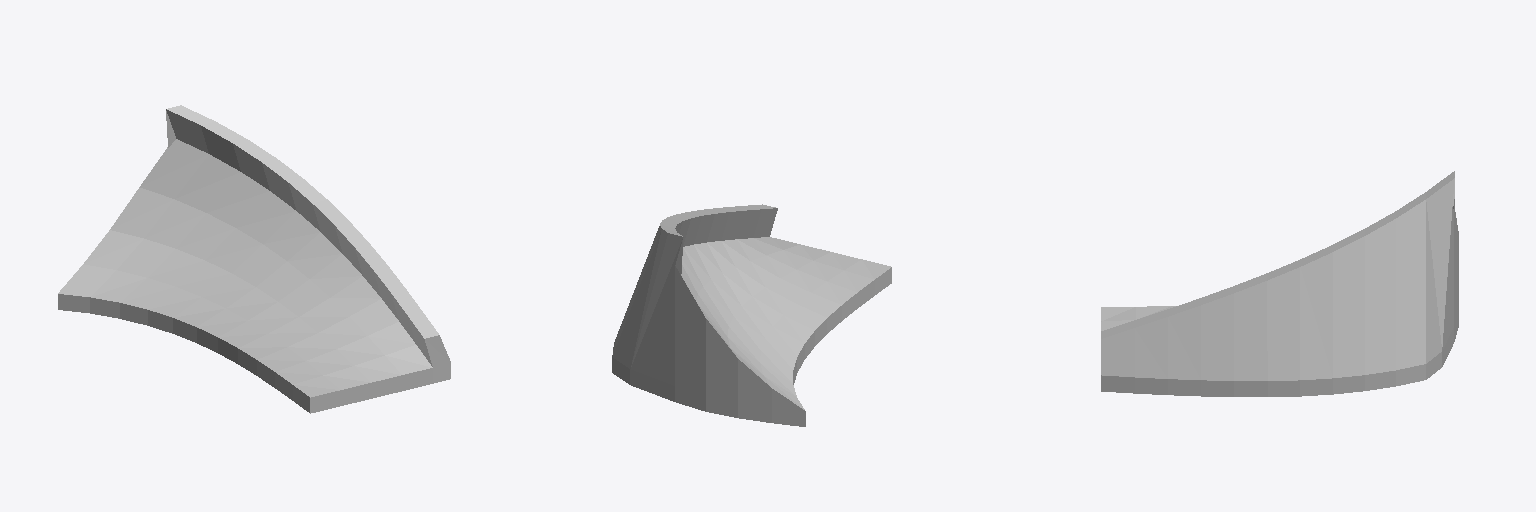
The model's file is curved_ramp_V7_R.obj.
3 renders of one model, left to right at view 1: azimuth 30°, elevation 25°; view 2: azimuth 150°, elevation 25°; view 3: azimuth 270°, elevation 25°, orthographic.
Visible parts, largest first — view 1: Plane.004_Plane.006; view 2: Plane.004_Plane.006; view 3: Plane.004_Plane.006.
Part boxes in pixels (x1,y1,x2,y2): Plane.004_Plane.006: (58,105,450,413); Plane.004_Plane.006: (612,204,891,426); Plane.004_Plane.006: (1101,171,1458,396).
Bounding box in the file's own units: 1.54 × 1.05 × 2.02.